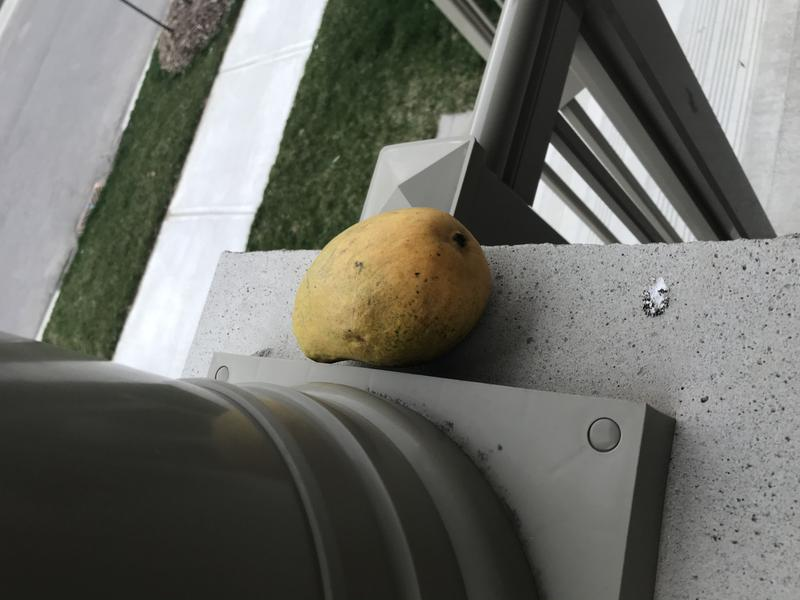mango: (283, 199, 511, 380)
